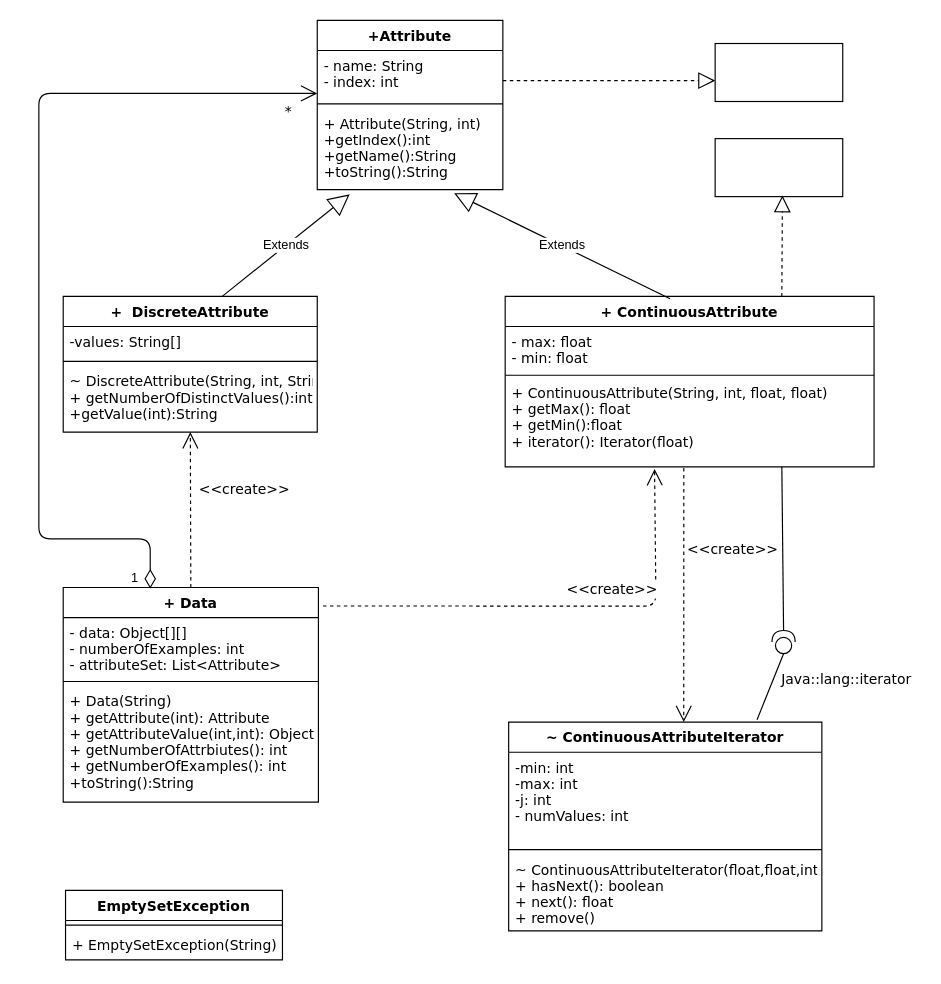
This 941x984 diagram has some shape labels left out. The shapes that lost their labels are listed below. From the top down, each one's centre as x and y in pixels, then its label:
the point at 778,72: «interface» java::io::Serializable
the point at 778,167: «interface» java::lang::iterable
